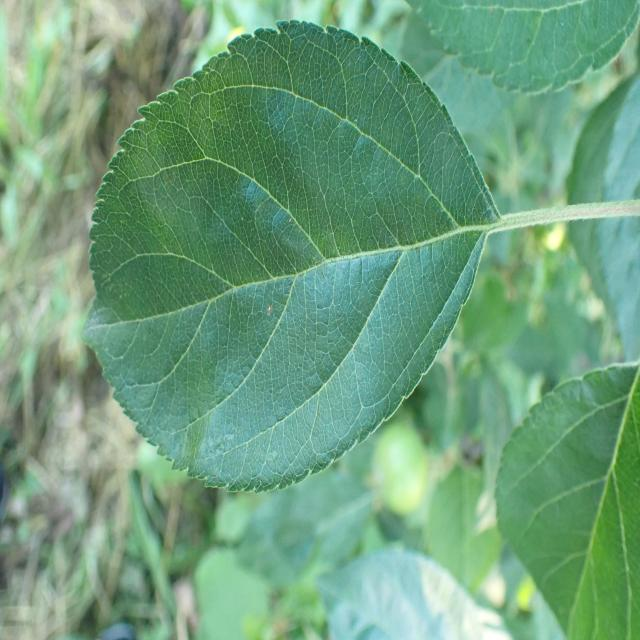healthy: (82, 19, 500, 494), (495, 362, 640, 640), (404, 0, 640, 96)
